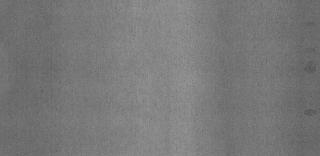oil spot: (301, 47, 319, 74), (302, 108, 320, 116)
